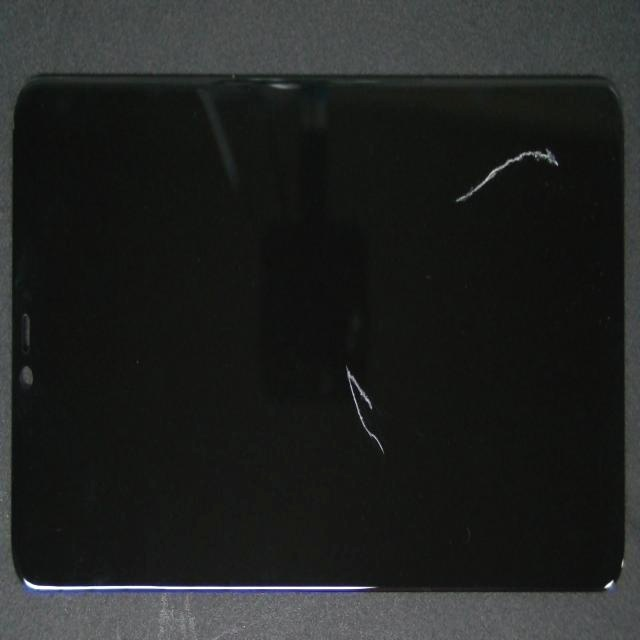scratch: (227, 279, 573, 618), (317, 21, 640, 212)
